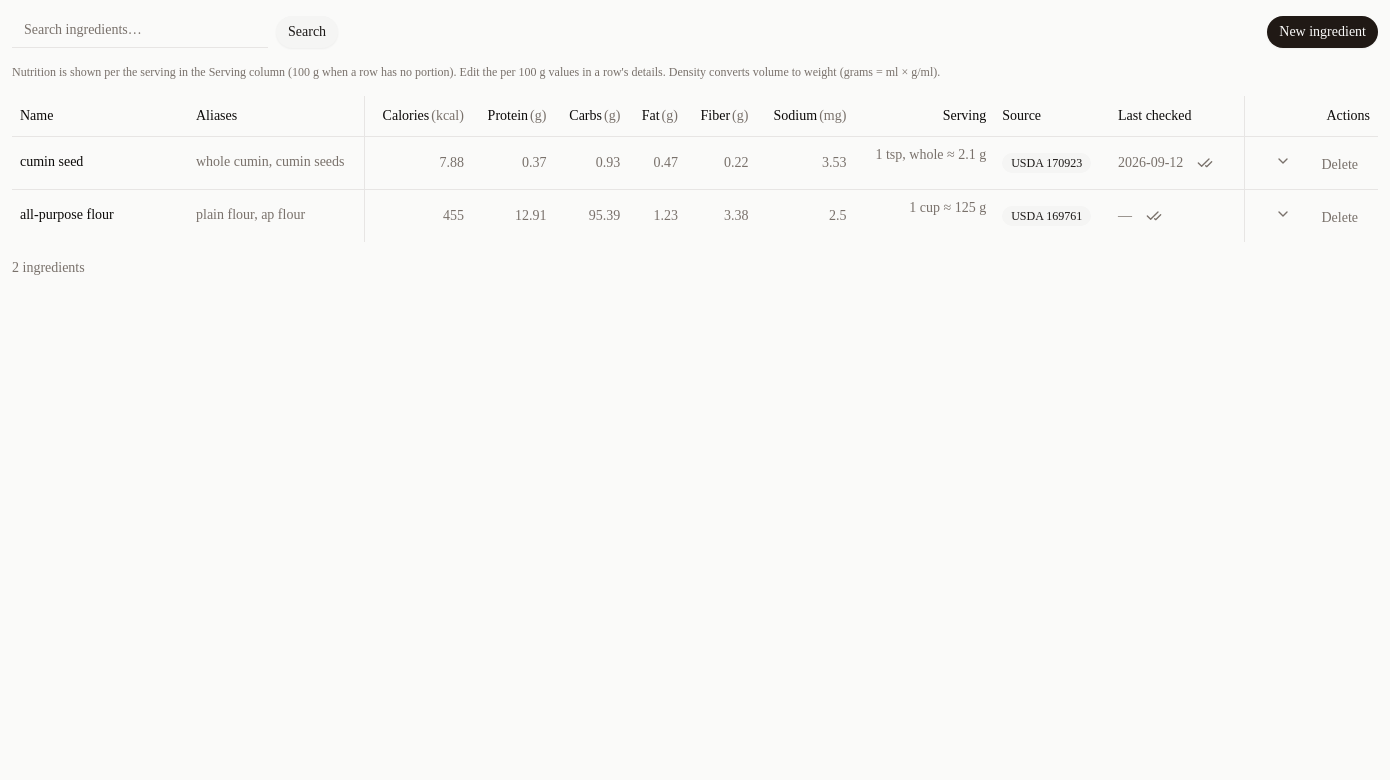
Test: IngredientsTable › opens the create panel, adds a manual ingredient, and prepends it
Click the button "New ingredient" at (1323, 32), box [1267, 16, 1378, 48]
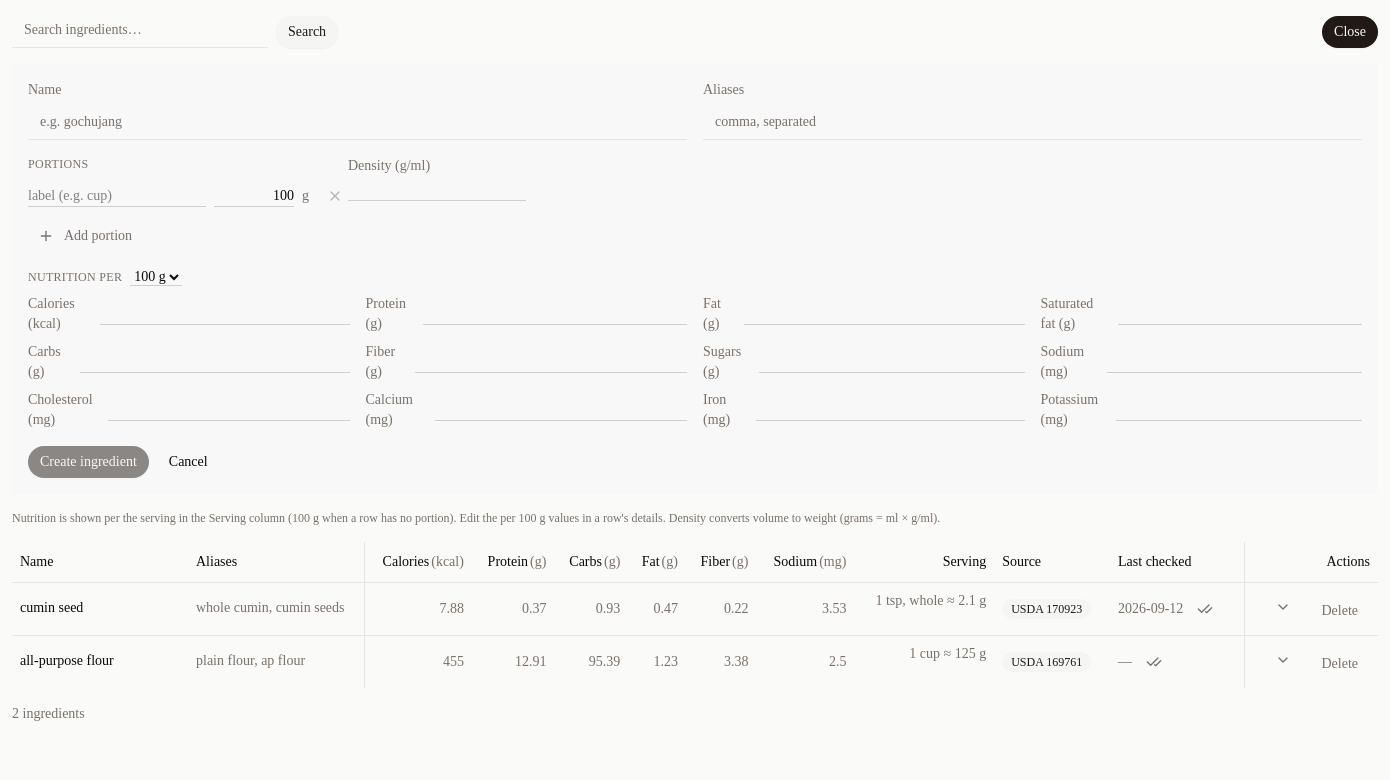
Type "smoked paprika" into the field named "New ingredient name" at (358, 122), box [28, 104, 687, 140]
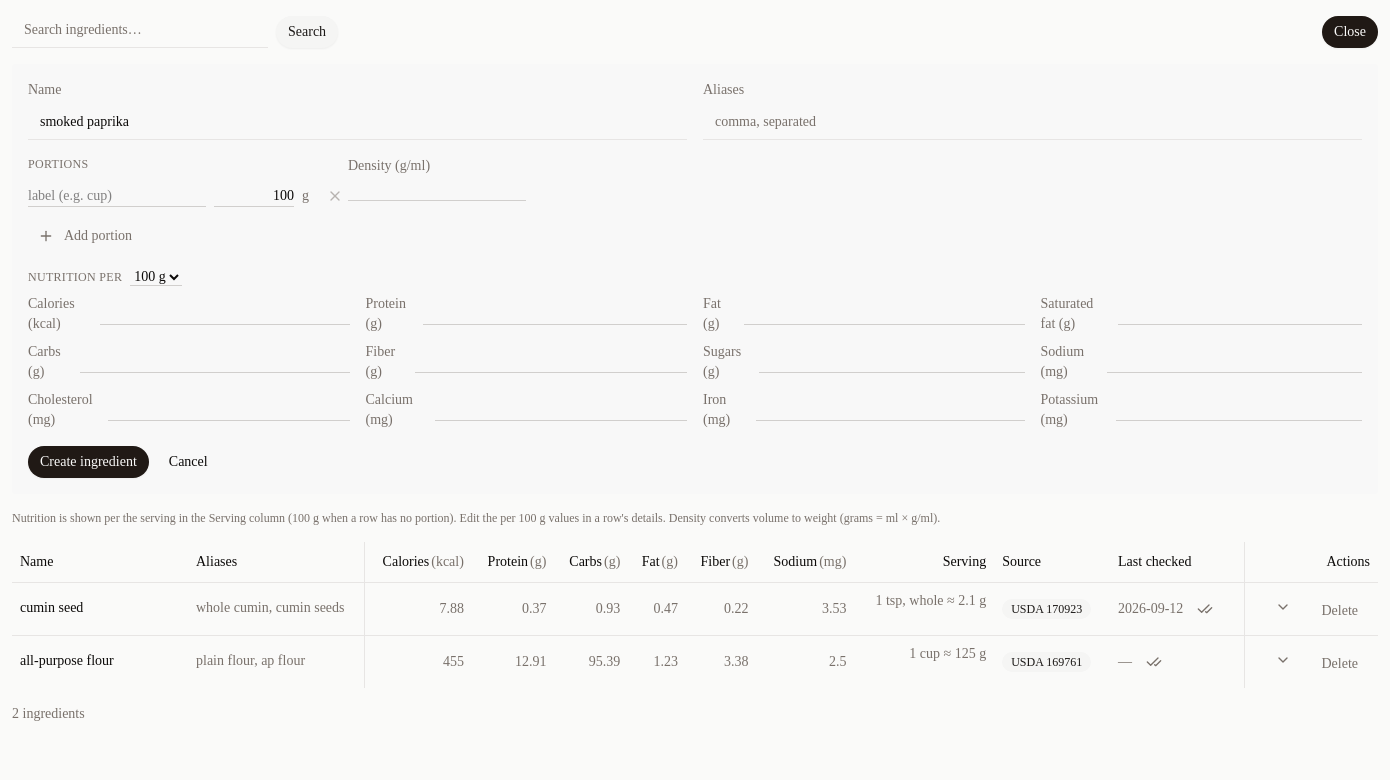
Click the button "Create ingredient" at (88, 462), box [28, 446, 149, 478]
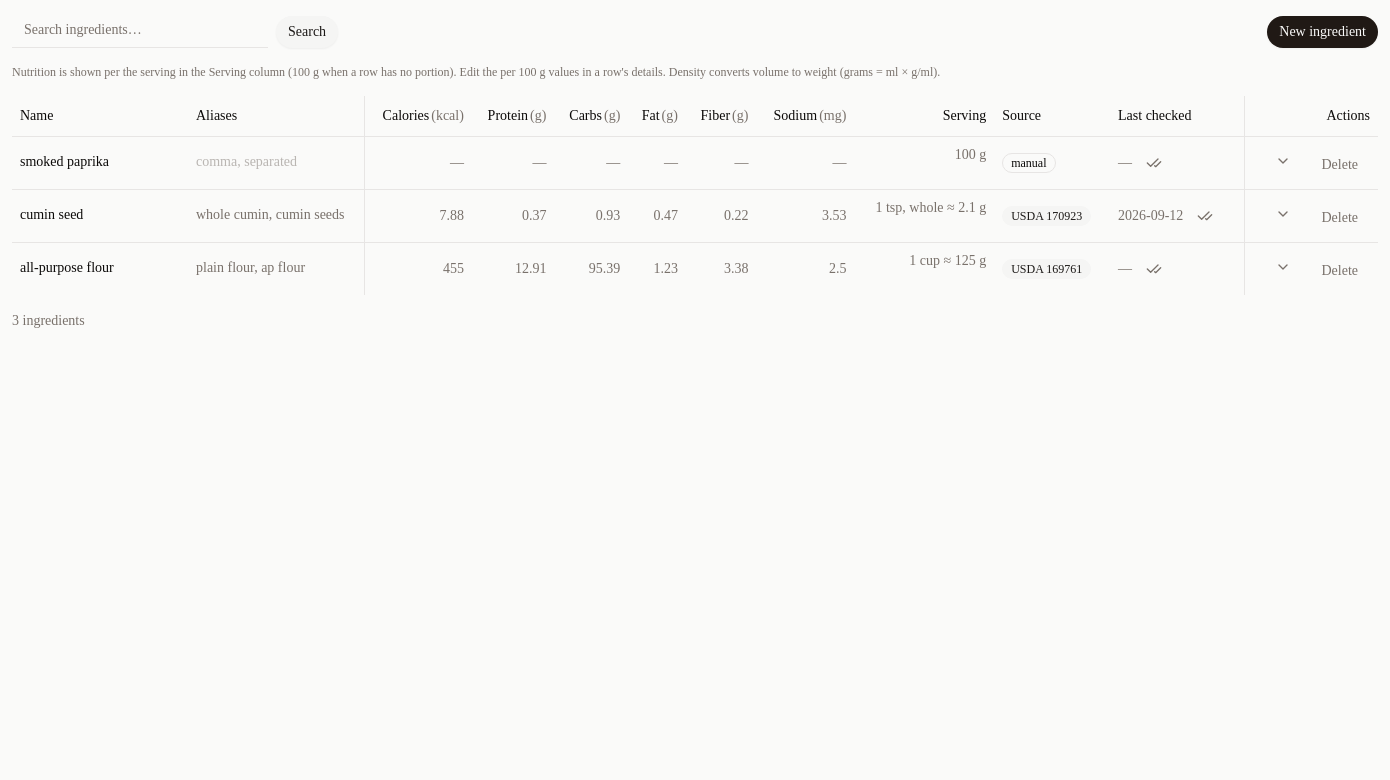
Expected: the field named "Name for smoked paprika" is shown, [20, 152, 180, 173]
Expected: the field labelled "New ingredient name" is gone
